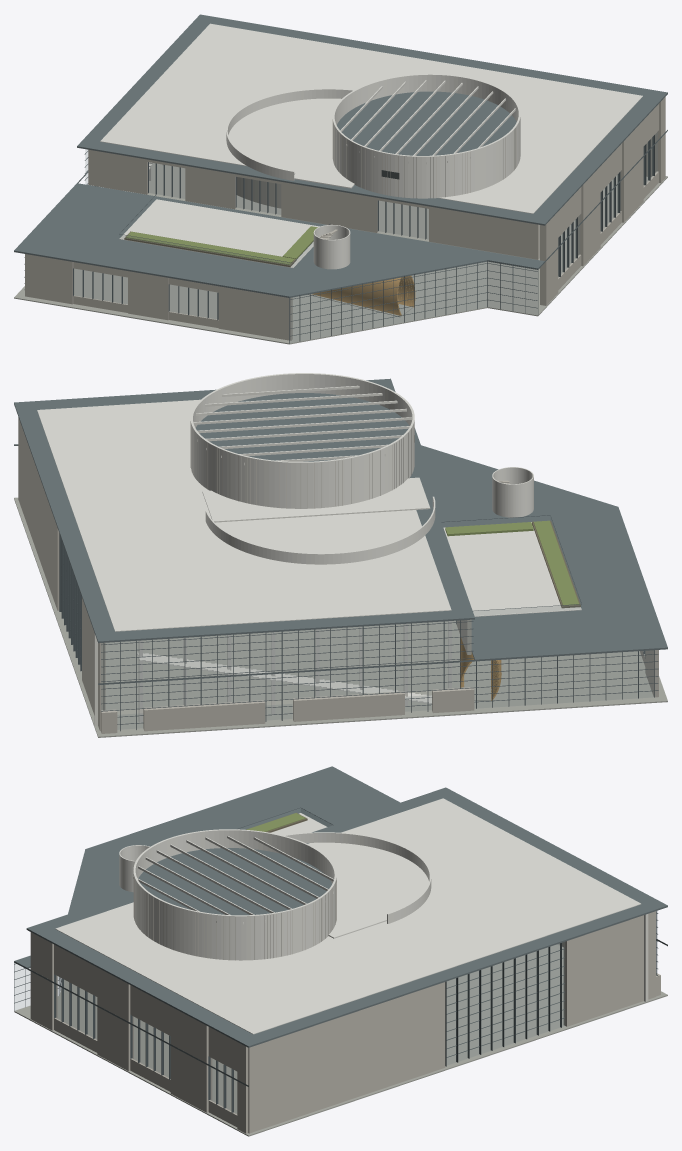
File: bespoke-lg-art-center-seoul-discovery-lab.glb
3 views of the same model, one above another, from view 1: azimuth 30°, elevation 25°; view 2: azimuth 150°, elevation 25°; view 3: azimuth 270°, elevation 25° (orthographic). The views are drawn at different scales.
Visible parts, largest first — view 1: LG_main_pale_roof_field, LG_DiscoveryLab_low_roof_plate, LG_retained_complex_ground_slab, LG_ArtsCenter_high_roof_plate, LG_terrace_concrete_wall_piers, LG_upper_stage_oval_wall, LG_metro_recess_glazing, LG_upper_stage_recessed_inner_roof, LG_DiscoveryLab_west_concrete_wall, LG_DiscoveryLab_rooftop_terrace_paving, LG_SE_service_concrete_piers, LG_terrace_recessed_glazed_doors (+22 smaller); view 2: LG_main_pale_roof_field, LG_retained_complex_ground_slab, LG_DiscoveryLab_low_roof_plate, LG_NW_tall_atrium_glazing, LG_upper_stage_oval_wall, LG_ArtsCenter_high_roof_plate, LG_upper_stage_recessed_inner_roof, LG_NW_low_tube_glazing, LG_DiscoveryLab_rooftop_terrace_paving, LG_NW_concrete_plinth, LG_NW_glazing_horizontal_frames, LG_open_oval_visible_transverse_roof_beams (+17 smaller); view 3: LG_main_pale_roof_field, LG_east_blackbox_service_wall, LG_retained_complex_ground_slab, LG_ArtsCenter_high_roof_plate, LG_upper_stage_oval_wall, LG_DiscoveryLab_low_roof_plate, LG_SE_service_concrete_piers, LG_east_blackbox_tall_glazed_bay, LG_upper_stage_recessed_inner_roof, LG_SE_service_dark_bays, LG_SE_service_bay_header, LG_open_oval_visible_transverse_roof_beams (+10 smaller).
Boxes of the visible parts, box(x1,y1,x2,y2) form: LG_main_pale_roof_field: box(100, 23, 642, 213); LG_DiscoveryLab_low_roof_plate: box(14, 130, 667, 297); LG_retained_complex_ground_slab: box(14, 163, 667, 344); LG_ArtsCenter_high_roof_plate: box(77, 14, 667, 225); LG_terrace_concrete_wall_piers: box(88, 149, 539, 259); LG_upper_stage_oval_wall: box(333, 75, 520, 198); LG_metro_recess_glazing: box(290, 262, 537, 342); LG_upper_stage_recessed_inner_roof: box(336, 91, 516, 155); LG_DiscoveryLab_west_concrete_wall: box(25, 254, 292, 340); LG_DiscoveryLab_rooftop_terrace_paving: box(119, 199, 319, 267); LG_SE_service_concrete_piers: box(540, 97, 665, 305); LG_terrace_recessed_glazed_doors: box(149, 162, 428, 239); LG_main_pale_roof_field: box(37, 399, 451, 631); LG_retained_complex_ground_slab: box(14, 497, 667, 737); LG_DiscoveryLab_low_roof_plate: box(14, 428, 667, 684); LG_NW_tall_atrium_glazing: box(101, 620, 473, 710); LG_upper_stage_oval_wall: box(191, 374, 414, 508); LG_ArtsCenter_high_roof_plate: box(14, 378, 474, 643); LG_upper_stage_recessed_inner_roof: box(195, 393, 408, 461); LG_NW_low_tube_glazing: box(474, 650, 653, 708); LG_DiscoveryLab_rooftop_terrace_paving: box(443, 522, 581, 616); LG_NW_concrete_plinth: box(100, 687, 474, 733); LG_NW_glazing_horizontal_frames: box(101, 621, 658, 724); LG_open_oval_visible_transverse_roof_beams: box(193, 385, 411, 465); LG_main_pale_roof_field: box(55, 798, 640, 1034); LG_east_blackbox_service_wall: box(248, 911, 655, 1133); LG_retained_complex_ground_slab: box(14, 943, 667, 1136); LG_ArtsCenter_high_roof_plate: box(26, 787, 667, 1047); LG_upper_stage_oval_wall: box(134, 830, 335, 960); LG_DiscoveryLab_low_roof_plate: box(14, 766, 667, 1086); LG_SE_service_concrete_piers: box(30, 932, 248, 1133); LG_east_blackbox_tall_glazed_bay: box(447, 942, 564, 1064); LG_upper_stage_recessed_inner_roof: box(138, 848, 331, 915); LG_SE_service_dark_bays: box(55, 975, 236, 1113); LG_SE_service_bay_header: box(54, 944, 237, 1071); LG_open_oval_visible_transverse_roof_beams: box(133, 836, 336, 924).
Size of the model in its own units: 159 by 31.32 by 137.
